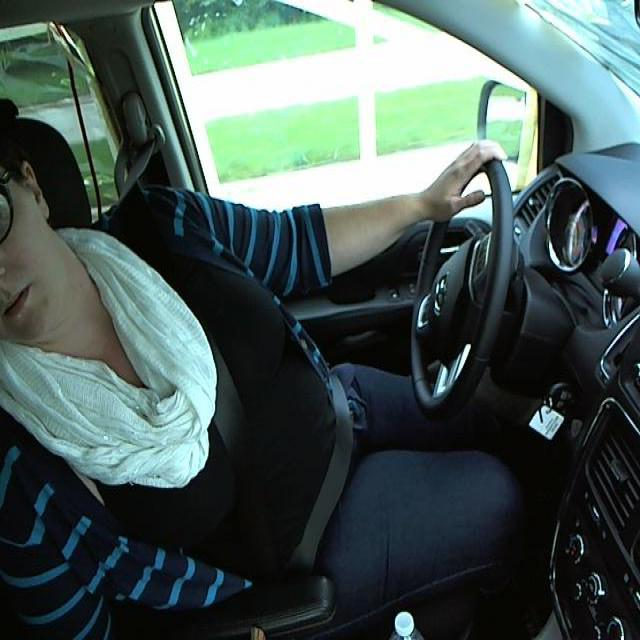seatbelt: (163, 334, 356, 570)
